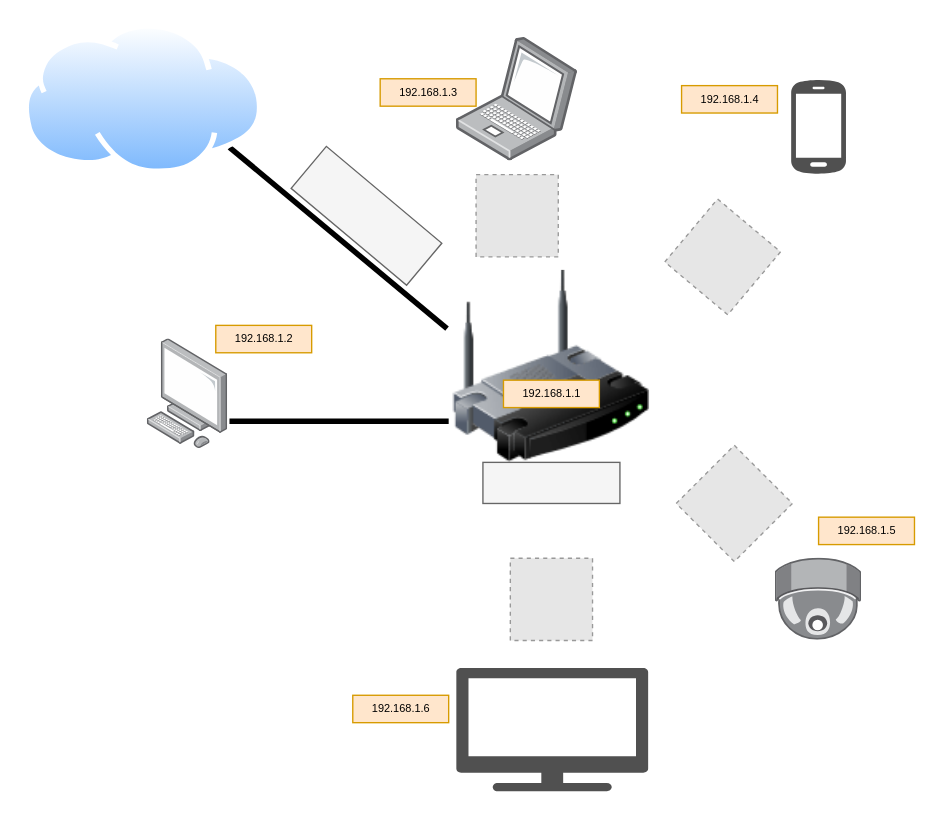
This 938x814 diagram has some shape labels left out. Grey dashed boxes stand in for pictures. The centre of each missing label's shape, as x and y in pixels:
"Internet" belongs at point (142, 98).
"ISP Connection" belongs at point (365, 215).
"TechBytes-Home" belongs at point (551, 482).
